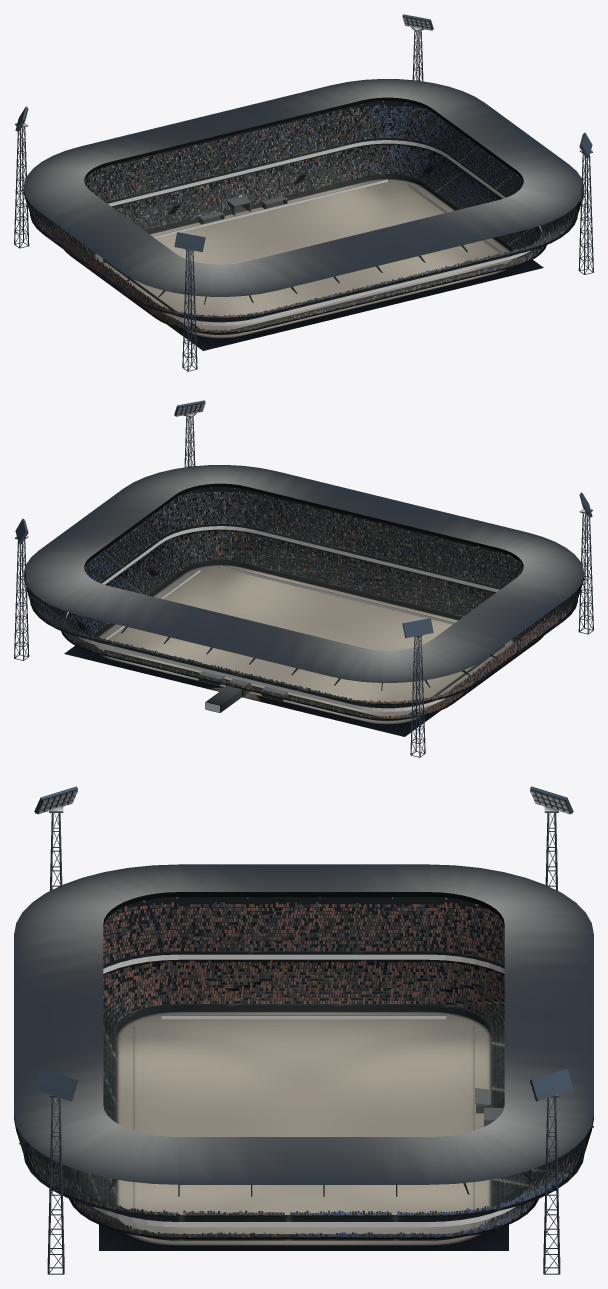
File: stadium_baked.glb
3 views of the same model, one above another, from view 1: azimuth 30°, elevation 25°; view 2: azimuth 150°, elevation 25°; view 3: azimuth 270°, elevation 25° (orthographic). The views are drawn at different scales.
Size of the model in its own units: 170 by 48.47 by 130.
Materials: 10 (3 with a texture image).
